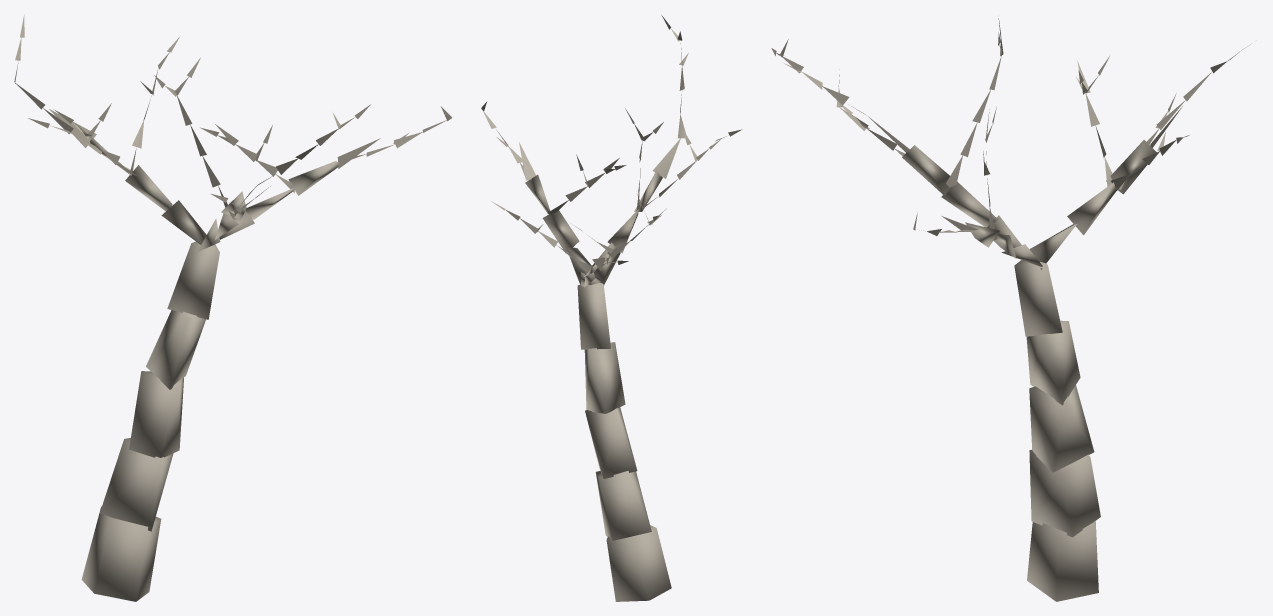
The model's file is tree_dead_b_LOD2.glb.
The picture shows the model from 3 angles, left to right: view 1: azimuth 30°, elevation 25°; view 2: azimuth 150°, elevation 25°; view 3: azimuth 270°, elevation 25°; orthographic projection. The views are drawn at different scales.
Visible parts, largest first — view 1: tree_dead_b_LOD2; view 2: tree_dead_b_LOD2; view 3: tree_dead_b_LOD2.
Boxes of the visible parts, box(x1,y1,x2,y2) form: tree_dead_b_LOD2: box(14, 14, 452, 601); tree_dead_b_LOD2: box(481, 15, 742, 601); tree_dead_b_LOD2: box(771, 18, 1250, 601).
Bounding box in the file's own units: 3.04 × 5.36 × 3.94.
